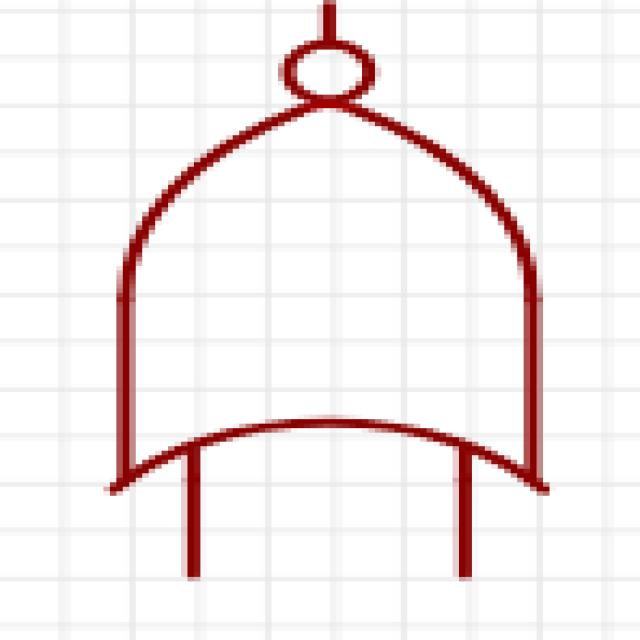nor: (65, 2, 606, 600)
